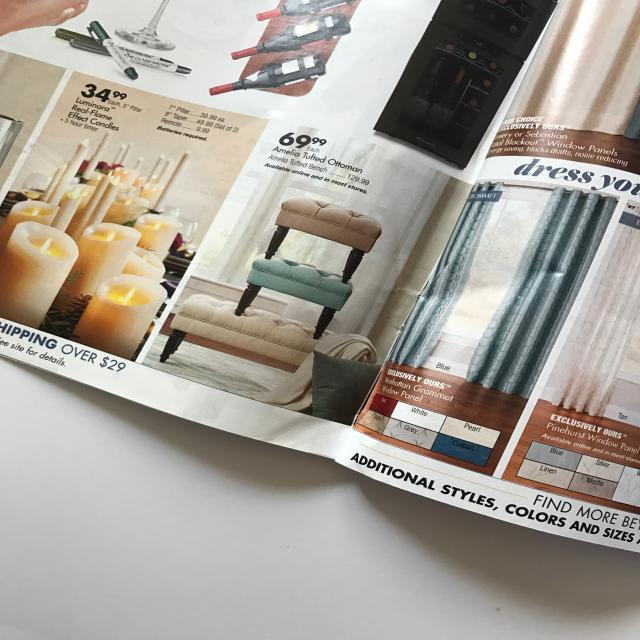paper: (0, 1, 640, 551)
